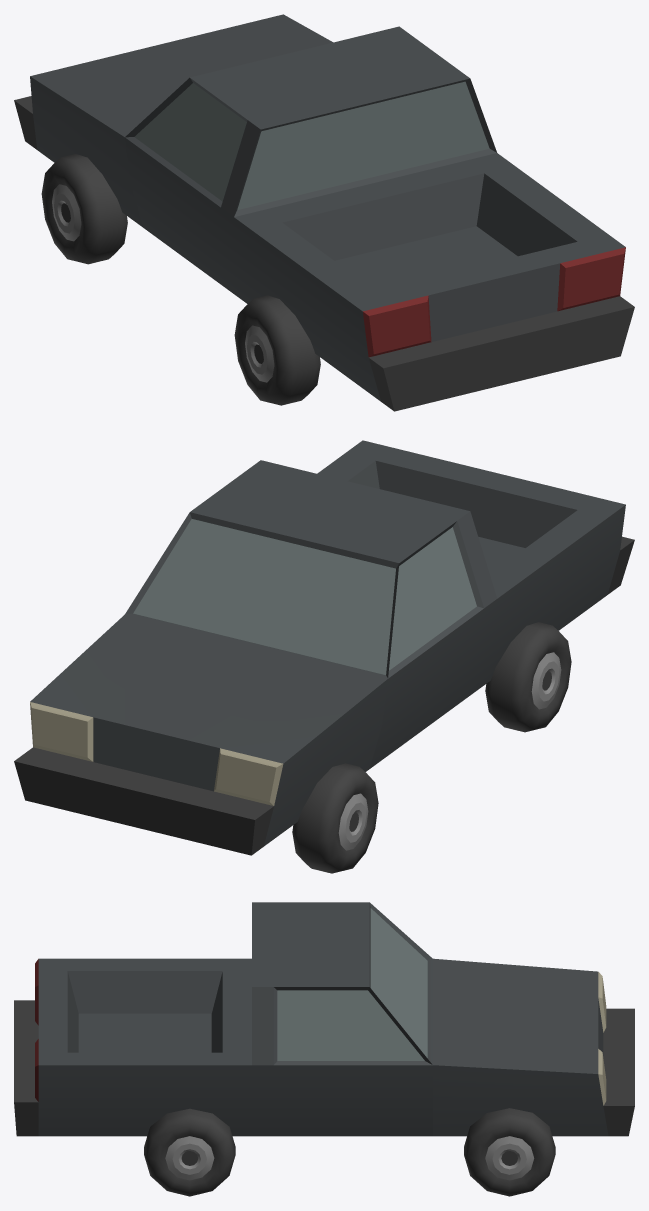
File: PS_Car03.fbx
3 views of the same model, one above another, from view 1: azimuth 30°, elevation 25°; view 2: azimuth 150°, elevation 25°; view 3: azimuth 270°, elevation 25° (orthographic). The views are drawn at different scales.
Visible parts, largest first — view 1: PS_Car03; view 2: PS_Car03; view 3: PS_Car03.
Boxes of the visible parts, x1,y1,x2,y2 form: PS_Car03: (14, 14, 634, 411); PS_Car03: (14, 440, 634, 873); PS_Car03: (14, 902, 634, 1196).
Size of the model in its own units: 1.91 by 1.49 by 4.24.
